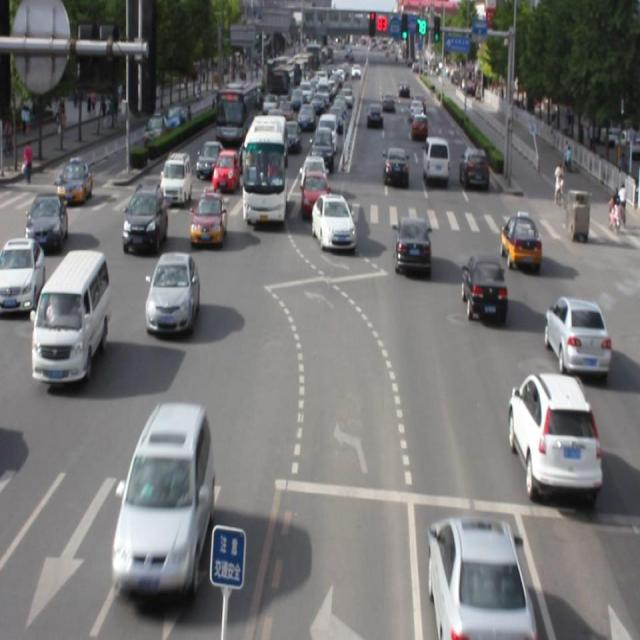car: (111, 402, 212, 590), (428, 514, 528, 640), (510, 374, 599, 498), (545, 295, 609, 373), (144, 253, 198, 332), (123, 181, 168, 256), (460, 254, 506, 321), (311, 196, 355, 253), (500, 213, 541, 268), (394, 217, 429, 274), (190, 191, 225, 245)
truck: (31, 247, 108, 384)
van: (243, 114, 286, 228)
